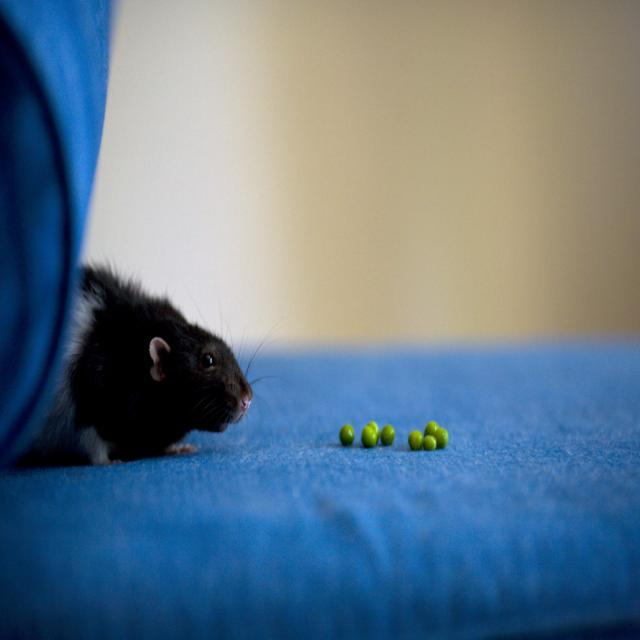rat: (69, 258, 257, 466)
